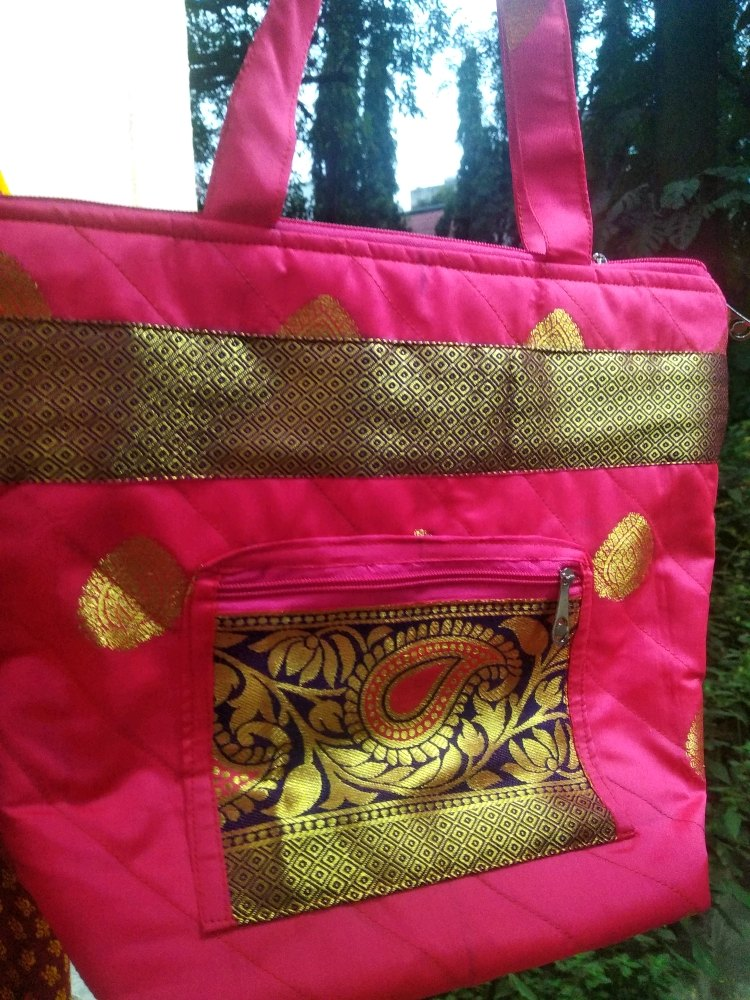clothbag: (1, 1, 723, 996)
